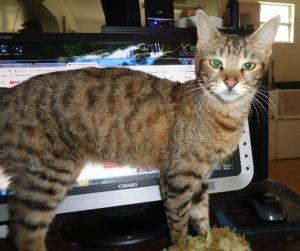bengal: (193, 7, 285, 110)
